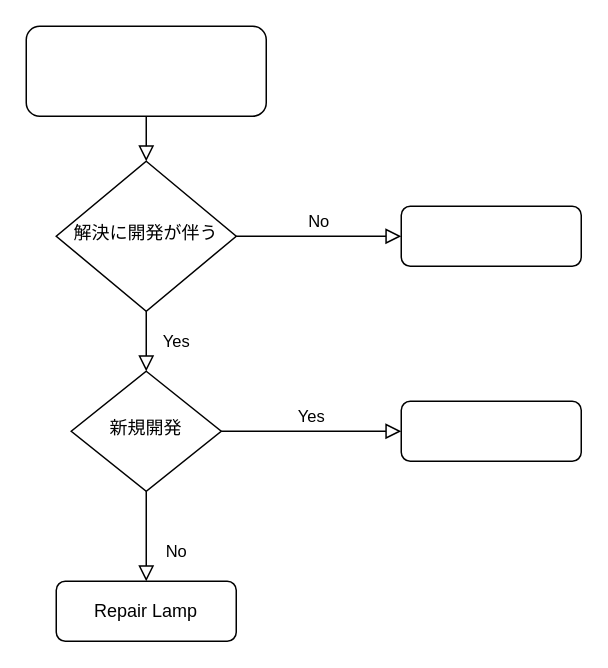
The diagram is 608 pixels wide and 668 high, and some of its shapes have lost their labels. Here are the shapes that lost their labels. From the top down, the centre of each, then its label:
At (x=145, y=70): "解決したいことの依頼 （CA,RA,集客,エンジニアetc...）".
At (x=490, y=235): "保守開発".
